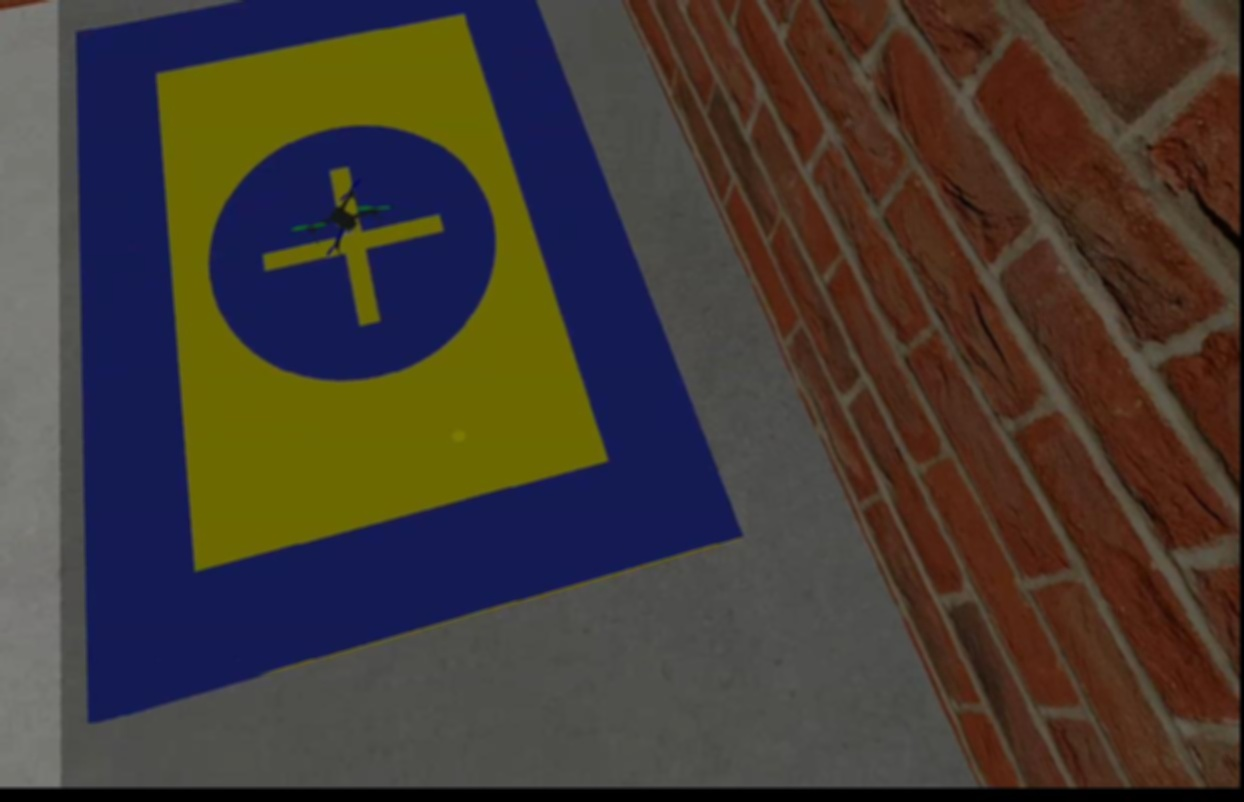large_base: (78, 1, 744, 729)
